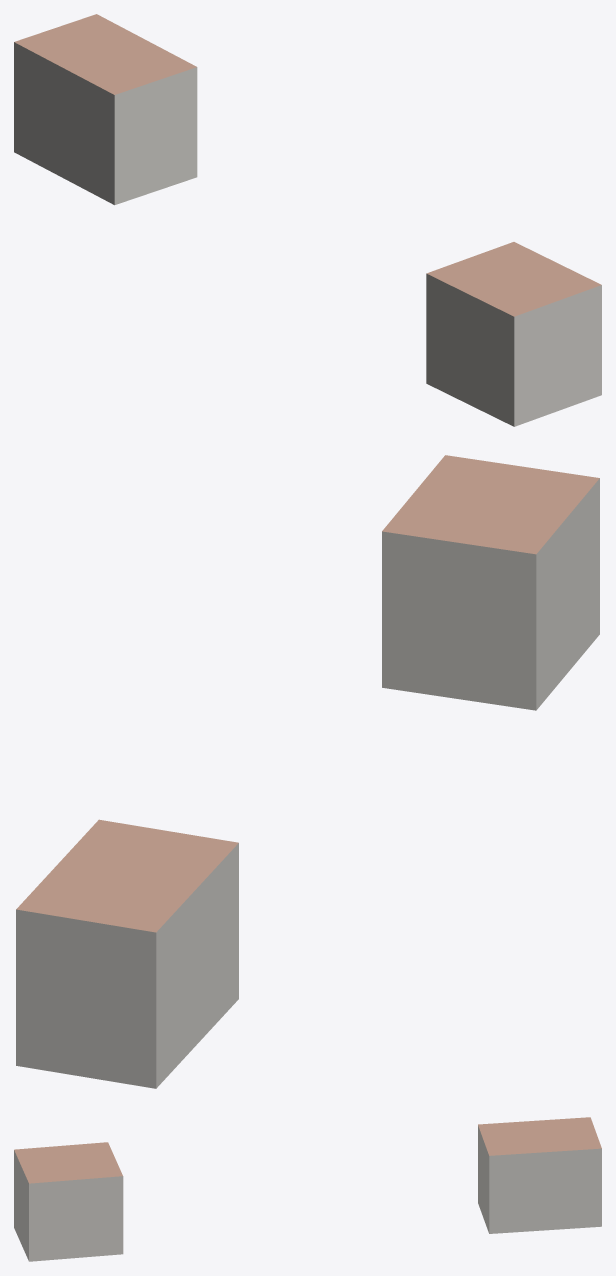
The model's file is gridID_3.dae.
3 views of the same model, one above another, from view 1: azimuth 30°, elevation 25°; view 2: azimuth 150°, elevation 25°; view 3: azimuth 270°, elevation 25° (orthographic). The views are drawn at different scales.
Parts seen in each view (by area): view 1: model_gridID_3_w389865169, model_gridID_3_w389865174; view 2: model_gridID_3_w389865169, model_gridID_3_w389865174; view 3: model_gridID_3_w389865169, model_gridID_3_w389865174.
Part boxes in pixels (bbox=[...]): model_gridID_3_w389865169: bbox=[14, 14, 197, 205]; model_gridID_3_w389865174: bbox=[426, 242, 601, 426]; model_gridID_3_w389865169: bbox=[16, 819, 238, 1088]; model_gridID_3_w389865174: bbox=[382, 455, 599, 710]; model_gridID_3_w389865169: bbox=[478, 1117, 601, 1233]; model_gridID_3_w389865174: bbox=[14, 1142, 123, 1261].
Size of the model in its own units: 13.68 by 51.14 by 7.5.
